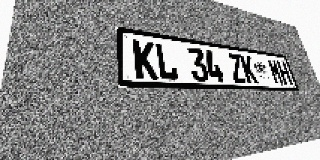3: (187, 47, 210, 82)
4: (203, 50, 225, 82)
H: (276, 60, 293, 85)
K: (132, 39, 158, 80), (239, 55, 259, 84)
L: (154, 42, 179, 81)
M: (267, 59, 284, 85)
Z: (227, 53, 247, 83)
